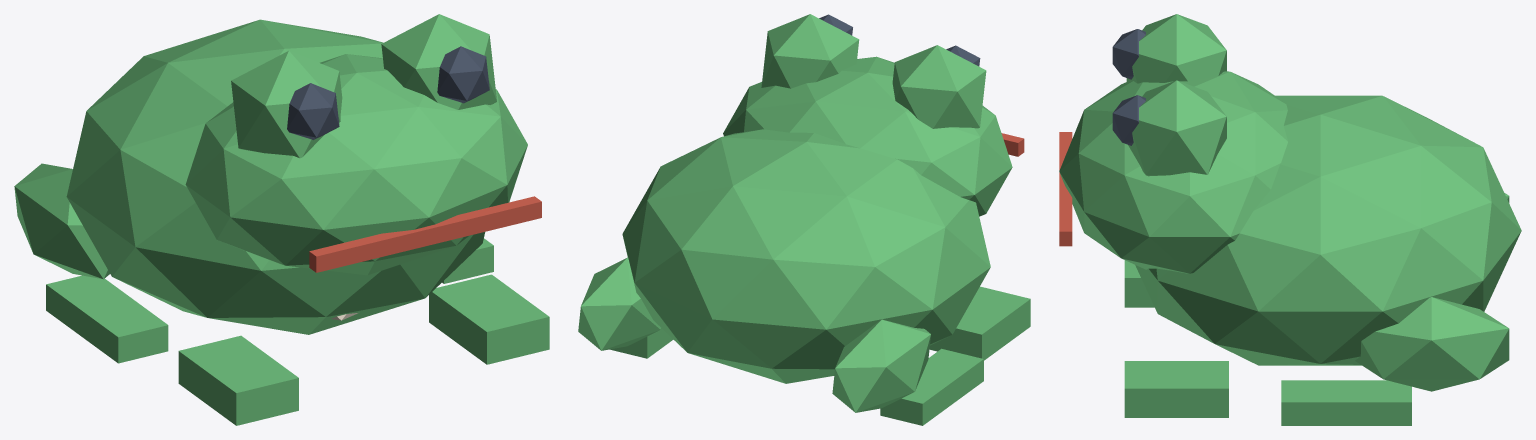
File: frog.glb
3 renders of one model, left to right at view 1: azimuth 30°, elevation 25°; view 2: azimuth 150°, elevation 25°; view 3: azimuth 270°, elevation 25°, orthographic. The views are drawn at different scales.
Parts seen in each view (by area): view 1: body.004, head.004, leg_l, leg_r; view 2: body.004, head.004, leg_l, leg_r; view 3: body.004, head.004, leg_r.
Part boxes in pixels (x1,y1,x2,y2): body.004: (66,19,549,425); head.004: (185,14,541,275); leg_l: (14,163,168,363); leg_r: (442,238,493,283); body.004: (622,129,1030,383); head.004: (723,14,1024,216); leg_l: (832,319,983,425); leg_r: (578,257,673,358); body.004: (1124,95,1521,417); head.004: (1059,14,1287,273); leg_r: (1281,297,1509,425).
Bounding box in the file's own units: 0.6052 × 0.51 × 0.708.
